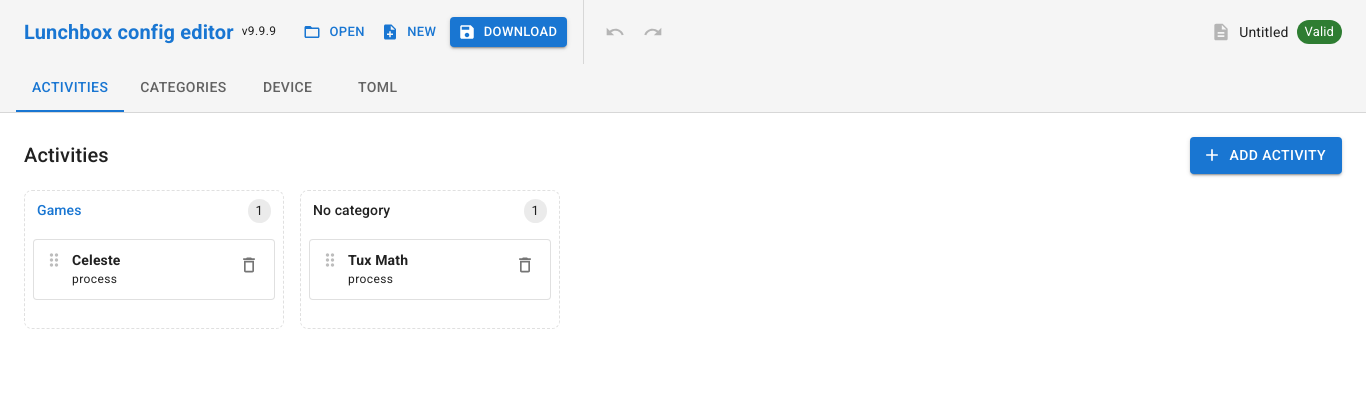
Test: navigating between activities and categories › opens a category's settings from its column header on the board
Click the button "Games" at [138, 210], box [37, 200, 240, 222]
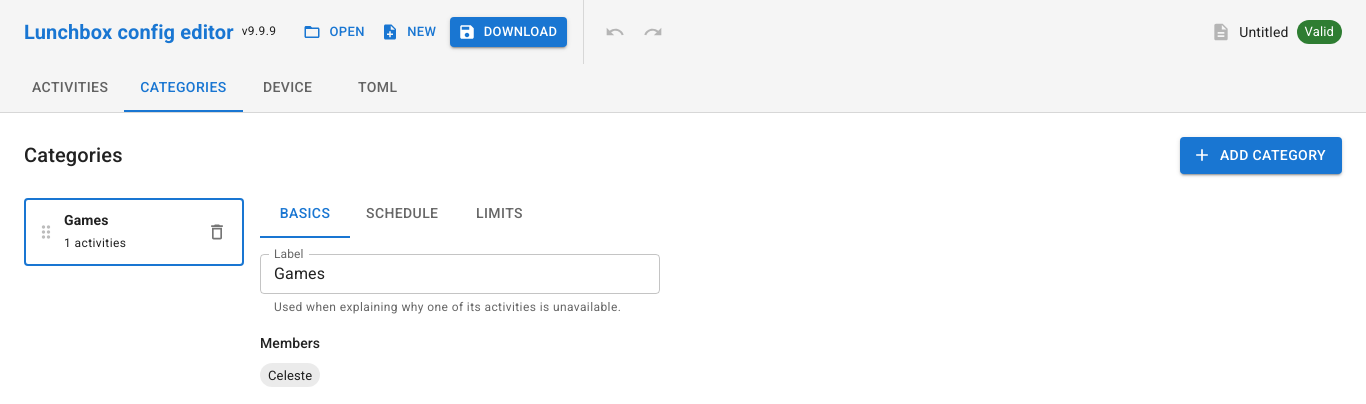
Now the tab "Schedule" is shown, box [350, 190, 454, 238]
